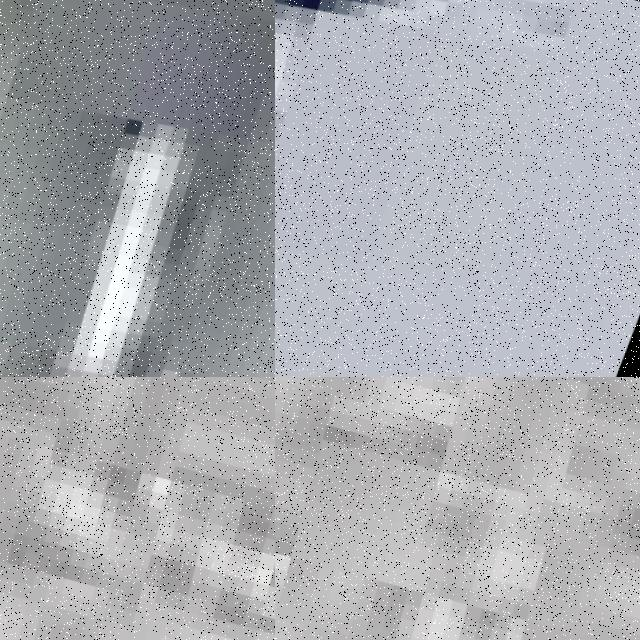drone: (275, 0, 640, 377), (0, 0, 275, 377)
